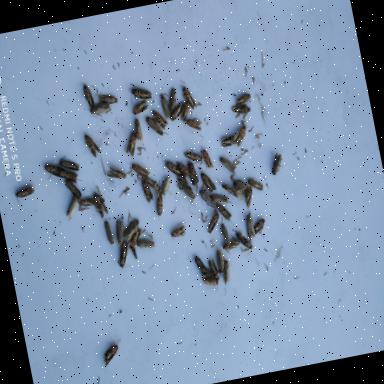pbw: (90, 186, 112, 220), (174, 174, 198, 204), (112, 214, 132, 248), (198, 184, 218, 218), (99, 341, 125, 367), (149, 104, 173, 132), (166, 154, 188, 184), (144, 112, 166, 142), (240, 208, 258, 243), (42, 157, 66, 183), (208, 188, 234, 212), (56, 165, 82, 189), (57, 152, 82, 176), (122, 214, 142, 243), (156, 90, 174, 122), (82, 131, 104, 157), (72, 194, 98, 216), (198, 166, 218, 194), (86, 100, 114, 120), (130, 156, 150, 184), (115, 242, 133, 272), (219, 237, 242, 260), (233, 228, 255, 252), (266, 152, 288, 176), (216, 150, 238, 174), (152, 190, 168, 222), (122, 129, 139, 159), (202, 210, 225, 232), (13, 184, 38, 204), (220, 176, 240, 201), (229, 100, 256, 118), (168, 222, 190, 244), (130, 82, 152, 104), (105, 165, 128, 186), (210, 200, 230, 224), (231, 123, 251, 147), (219, 256, 235, 286), (138, 178, 156, 204), (240, 186, 259, 210), (184, 165, 202, 190), (206, 254, 221, 284), (211, 246, 227, 274), (166, 86, 183, 112), (60, 194, 82, 214), (250, 216, 270, 238), (184, 115, 204, 137), (174, 102, 196, 122), (219, 132, 242, 151), (82, 82, 97, 110), (64, 177, 84, 198), (136, 235, 156, 256), (182, 145, 204, 164), (128, 102, 154, 118), (182, 84, 198, 110), (198, 273, 220, 291), (190, 254, 208, 276), (96, 90, 120, 106), (246, 176, 265, 196), (158, 176, 176, 197), (102, 222, 116, 248), (232, 90, 255, 105), (130, 117, 144, 141), (220, 224, 234, 246), (200, 147, 212, 170)
